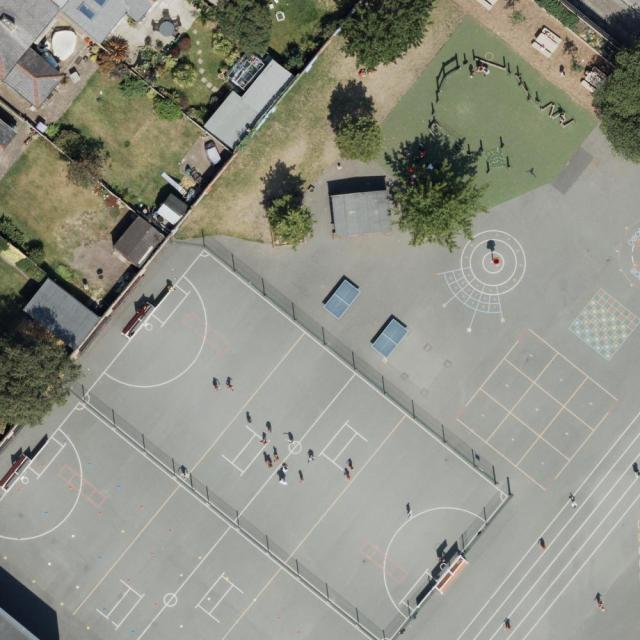roof: (0, 0, 163, 113)
skylight: (75, 2, 99, 21), (92, 0, 107, 7)
